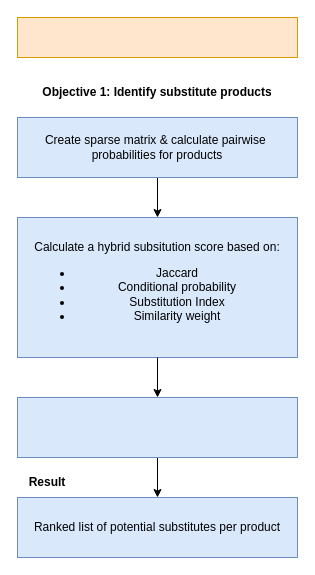
Image size: 315x575. Some labels were removed from this diagram. The centre of each missing label's shape, as x and y in pixels:
"Clean data & sample products" goes at pixel 157 37.
"Determine best threshold & filter products to an identified substitutes list" goes at pixel 157 427.
